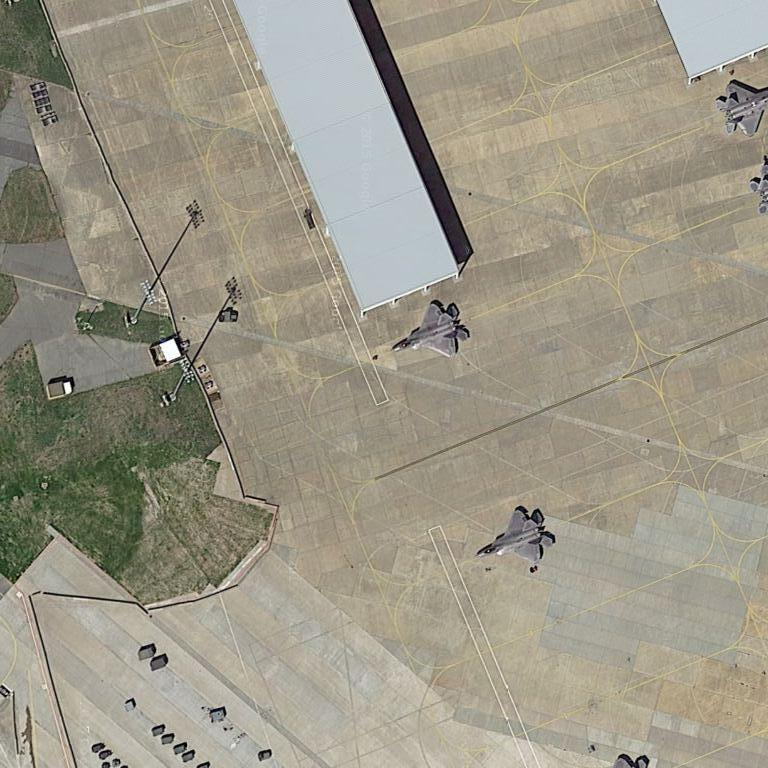F-22: (474, 500, 558, 569), (390, 300, 473, 362), (712, 80, 765, 141)
